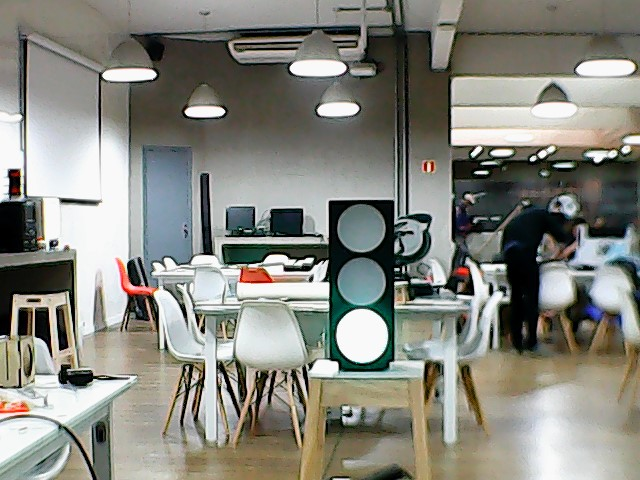verde: (324, 198, 399, 368)
